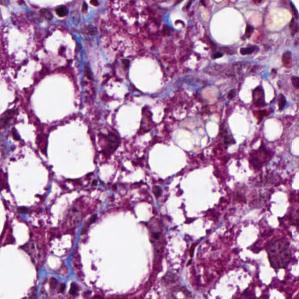inflammation: (48, 277, 89, 299), (240, 22, 261, 57), (10, 125, 25, 147), (54, 4, 72, 19), (210, 48, 225, 65), (276, 92, 287, 114)
